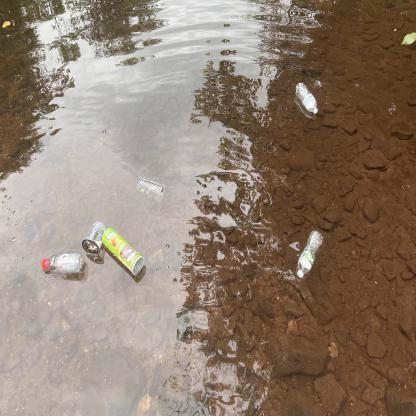Metal: (96, 224, 149, 281)
Plastic: (294, 225, 327, 281), (36, 249, 91, 279), (78, 218, 110, 257), (130, 173, 170, 204), (294, 77, 322, 116)
